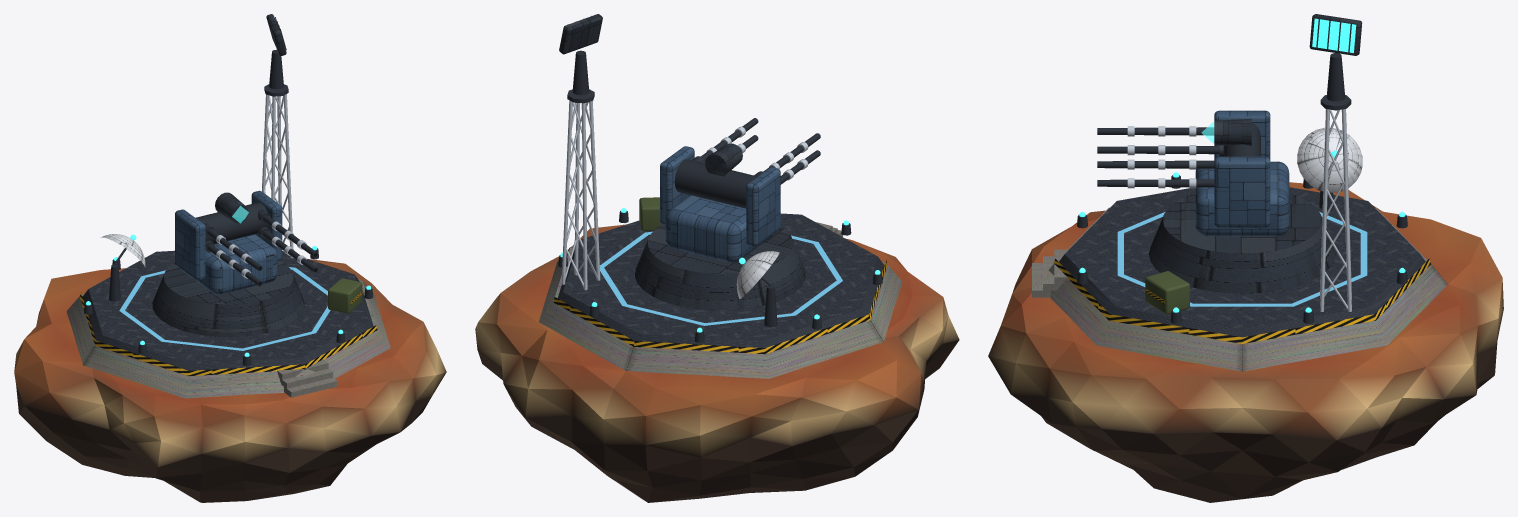
Rendered from aadefense-L75.glb.
3 renders of one model, left to right at view 1: azimuth 30°, elevation 25°; view 2: azimuth 150°, elevation 25°; view 3: azimuth 270°, elevation 25°, orthographic. The views are drawn at different scales.
Parts seen in each view (by area): view 1: object 1, object 4, object 25, object 2, anim:yaw, anim:rc (×4), anim:pitch, object 3, object 5, object 72, object 22, anim:rot (+2 smaller); view 2: object 1, object 4, object 2, object 25, anim:yaw, anim:pitch, object 3, anim:rot (×2), object 5, object 72, object 70, anim:rc; view 3: object 1, object 4, object 2, object 25, anim:yaw, anim:rot (×2), anim:rc (×4), object 3, object 5, anim:pitch, object 72, object 70.
Part boxes in pixels (x1,y1,x2,y2): object 1: (14,259,446,502); object 4: (82,250,373,370); object 25: (152,260,304,337); object 2: (66,279,390,398); anim:yaw: (175,190,282,294); anim:rc (×4): (203,209,317,286); anim:pitch: (195,192,268,243); object 3: (79,292,377,375); object 5: (119,267,330,350); object 72: (328,278,362,313); object 22: (284,377,337,397); anim:rot: (100,234,145,267); object 1: (475,224,959,502); object 4: (557,213,884,348); object 2: (539,246,902,378); object 25: (635,224,805,310); anim:yaw: (660,146,780,262); anim:pitch: (674,143,757,208); object 3: (553,260,887,354); anim:rot (×2): (559,14,779,298); object 5: (600,231,842,325); object 72: (639,197,662,230); object 70: (572,50,589,95); anim:rc: (692,118,758,163); object 1: (988,182,1503,502); object 4: (1059,187,1425,337); object 2: (1048,207,1447,371); object 25: (1149,193,1335,293); anim:yaw: (1195,110,1289,236); anim:rot (×2): (1297,14,1362,192); anim:rc (×4): (1097,126,1223,188); object 3: (1054,258,1430,343); object 5: (1117,211,1367,306); anim:pitch: (1201,118,1260,156); object 72: (1145,271,1189,314); object 70: (1326,53,1345,101).
Size of the model in its own units: 5.6 by 5.56 by 5.51.
16 materials, 7 textured.
